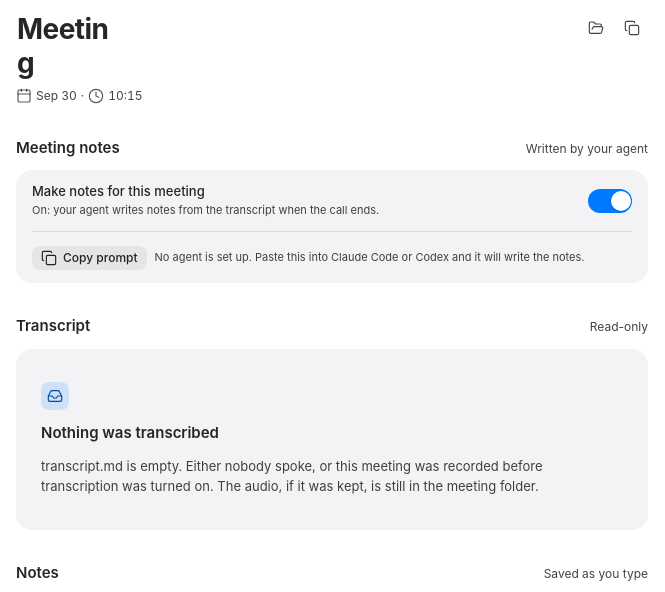
Review's Copy prompt › is offered when no agent is set up, and copies this meeting's prompt
The width and height of the screenshot is (665, 592).
Expected: the text "No agent is set up. Paste this into Claude Code or Codex and it will write the notes." is shown, 155,250 -> 584,264
Step 1. Click the button "Copy prompt" → (89,258), box 32,246 -> 147,270
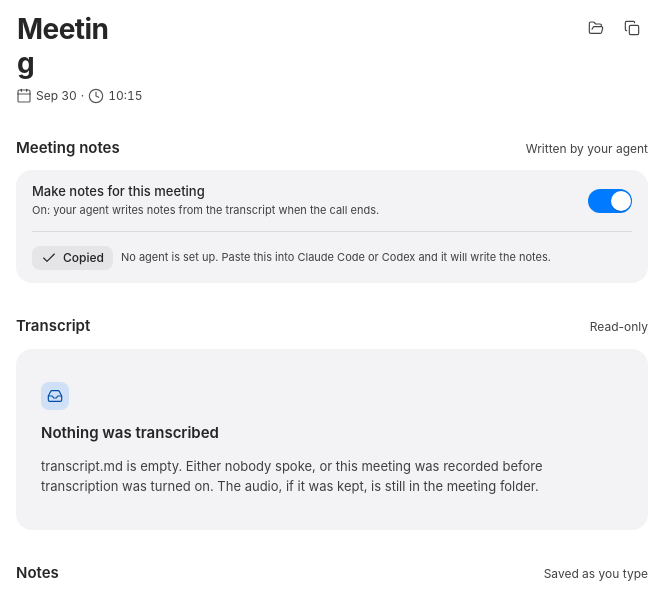
Now the button "Copied" is shown, box 32,246 -> 113,270
